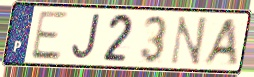2: (100, 12, 135, 64)
3: (139, 14, 170, 65)
A: (199, 17, 239, 67)
E: (28, 9, 69, 62)
J: (70, 12, 102, 62)
N: (167, 15, 209, 67)
